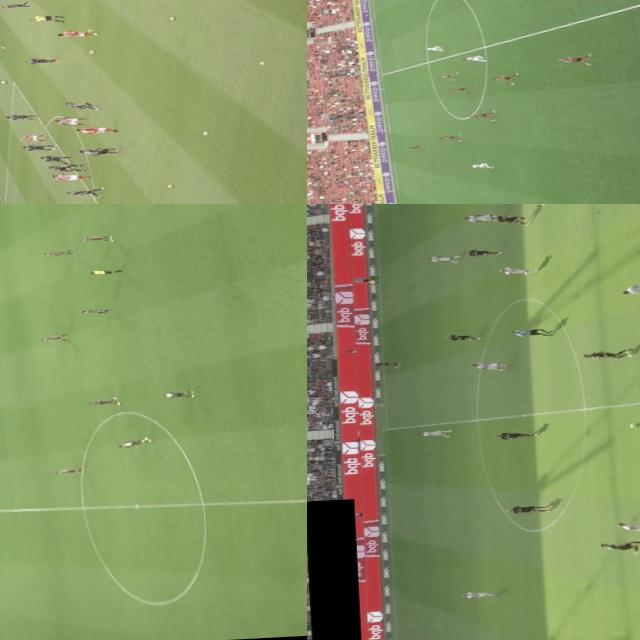ball: (616, 421, 640, 430), (85, 50, 95, 55), (168, 16, 176, 22), (257, 61, 265, 66), (140, 438, 150, 442), (165, 185, 172, 189), (202, 132, 208, 136), (0, 80, 5, 84)
player: (580, 349, 636, 364), (500, 501, 548, 517), (595, 541, 640, 554), (492, 430, 540, 442), (490, 212, 530, 226), (462, 247, 504, 260), (469, 361, 506, 375), (458, 590, 500, 602), (459, 212, 497, 225), (65, 100, 100, 114), (446, 331, 483, 344), (615, 519, 640, 537), (158, 389, 192, 402), (556, 55, 592, 67), (418, 429, 454, 441), (501, 266, 536, 278), (57, 29, 98, 39), (52, 116, 86, 128), (76, 126, 116, 136), (422, 255, 462, 265), (85, 399, 123, 409), (52, 172, 89, 182), (46, 164, 82, 174), (78, 147, 118, 156), (468, 112, 498, 124), (116, 438, 146, 450), (40, 248, 76, 258), (76, 235, 112, 245), (65, 189, 103, 198), (615, 281, 640, 294), (25, 56, 57, 66), (490, 73, 518, 84), (38, 155, 68, 165), (19, 144, 55, 152), (367, 360, 401, 368), (78, 308, 110, 316), (5, 114, 36, 122), (37, 335, 67, 343), (18, 134, 44, 143), (468, 163, 494, 171), (436, 134, 462, 142), (460, 54, 486, 62), (54, 468, 82, 475), (420, 46, 446, 53), (1, 4, 29, 10), (448, 87, 470, 94), (402, 146, 424, 152)
